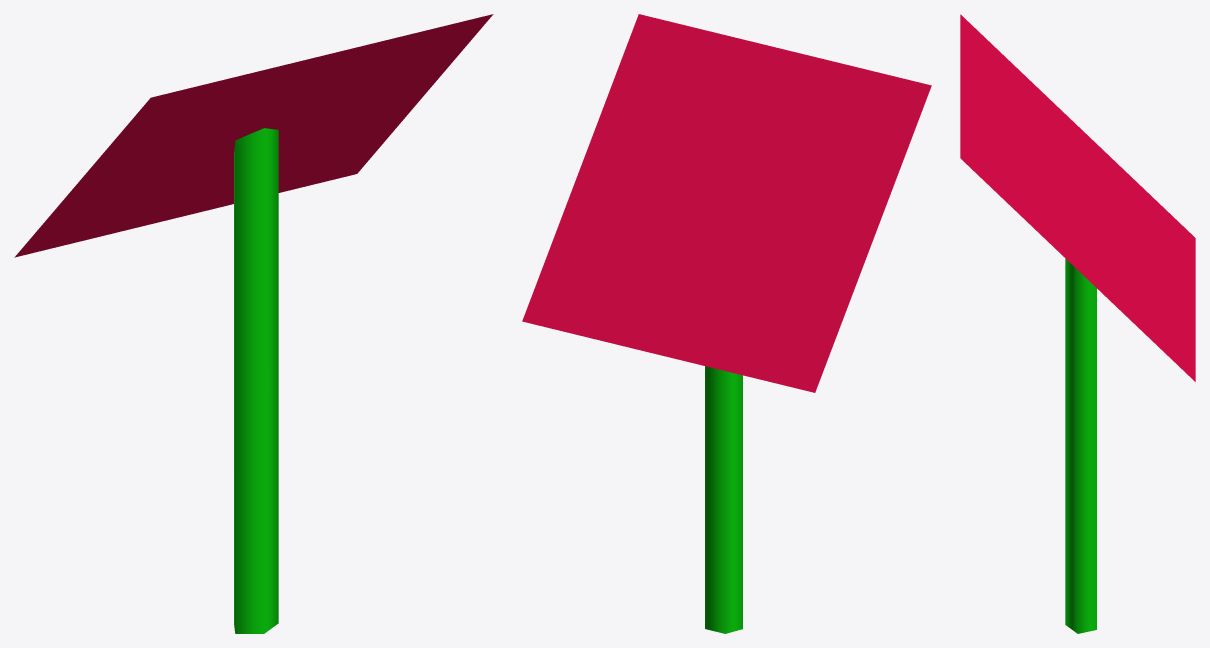
File: fleur.fbx
The picture shows the model from 3 angles, left to right: view 1: azimuth 30°, elevation 25°; view 2: azimuth 150°, elevation 25°; view 3: azimuth 270°, elevation 25°; orthographic projection. The views are drawn at different scales.
Visible parts, largest first — view 1: Cylinder; view 2: Cylinder; view 3: Cylinder.
Part boxes in pixels (x1,y1,x2,y2): Cylinder: (14,14,493,633); Cylinder: (522,14,931,633); Cylinder: (960,14,1195,633).
Bounding box in the file's own units: 1.58 × 2.75 × 1.09.
